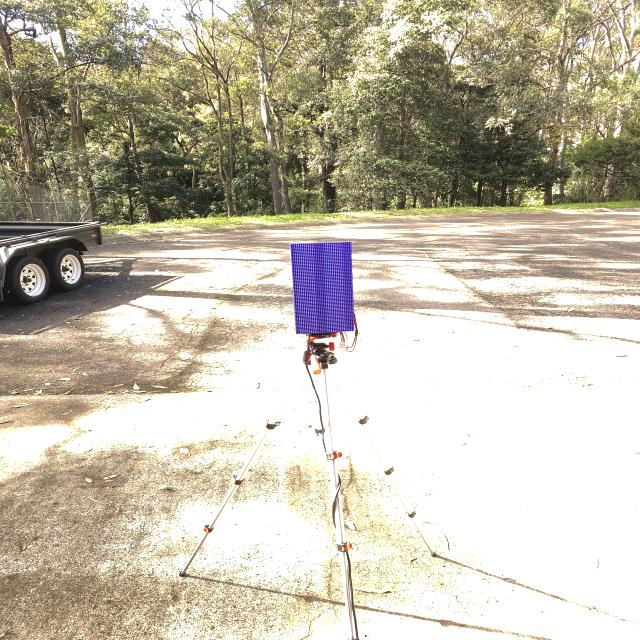matrix: (279, 226, 364, 337)
